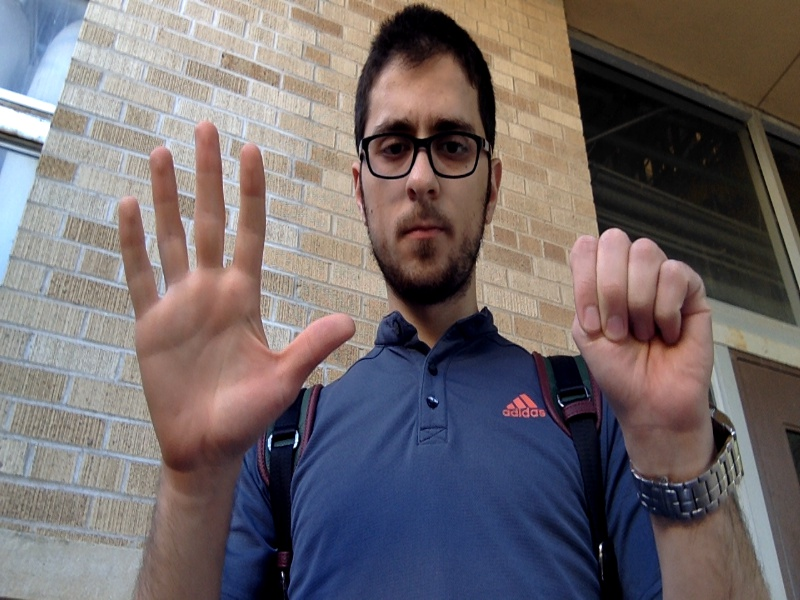0-hand: (572, 228, 713, 435)
5-hand: (118, 124, 353, 467)
